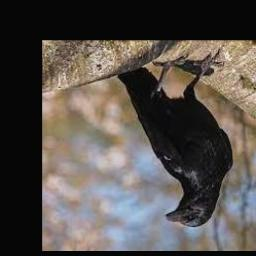Crow: (117, 53, 233, 227)
